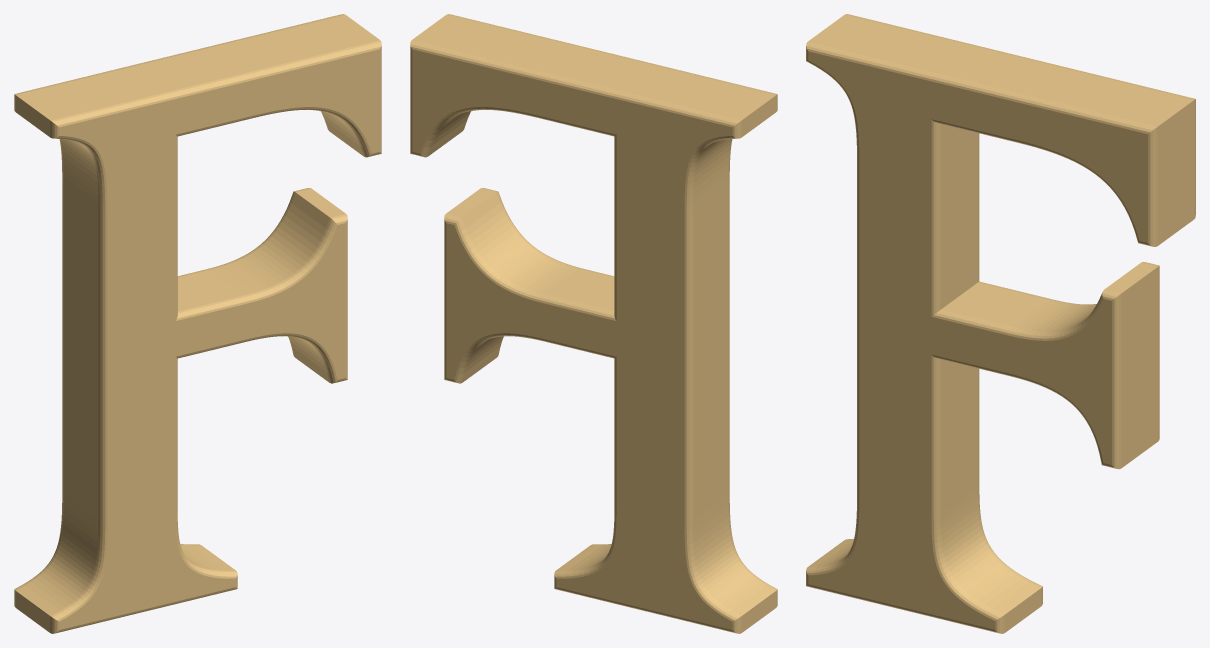
Rendered from forma-monogram.glb.
The picture shows the model from 3 angles, left to right: view 1: azimuth 30°, elevation 25°; view 2: azimuth 150°, elevation 25°; view 3: azimuth 330°, elevation 25°; orthographic projection. The views are drawn at different scales.
Parts seen in each view (by area): view 1: Forma Monogram; view 2: Forma Monogram; view 3: Forma Monogram.
Boxes of the visible parts, x1,y1,x2,y2 form: Forma Monogram: (14,14,381,633); Forma Monogram: (410,14,777,633); Forma Monogram: (806,14,1195,633).
Size of the model in its own units: 8.24 by 12.24 by 1.86.
